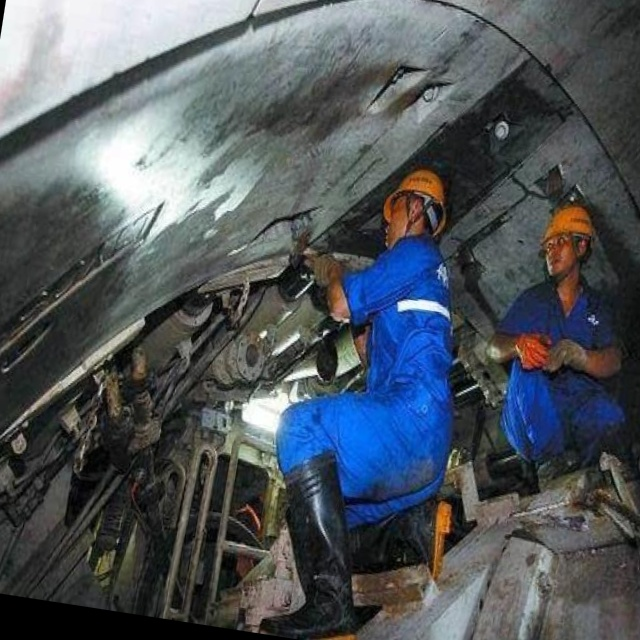Con_Casco: (378, 160, 450, 247), (539, 203, 596, 276)
